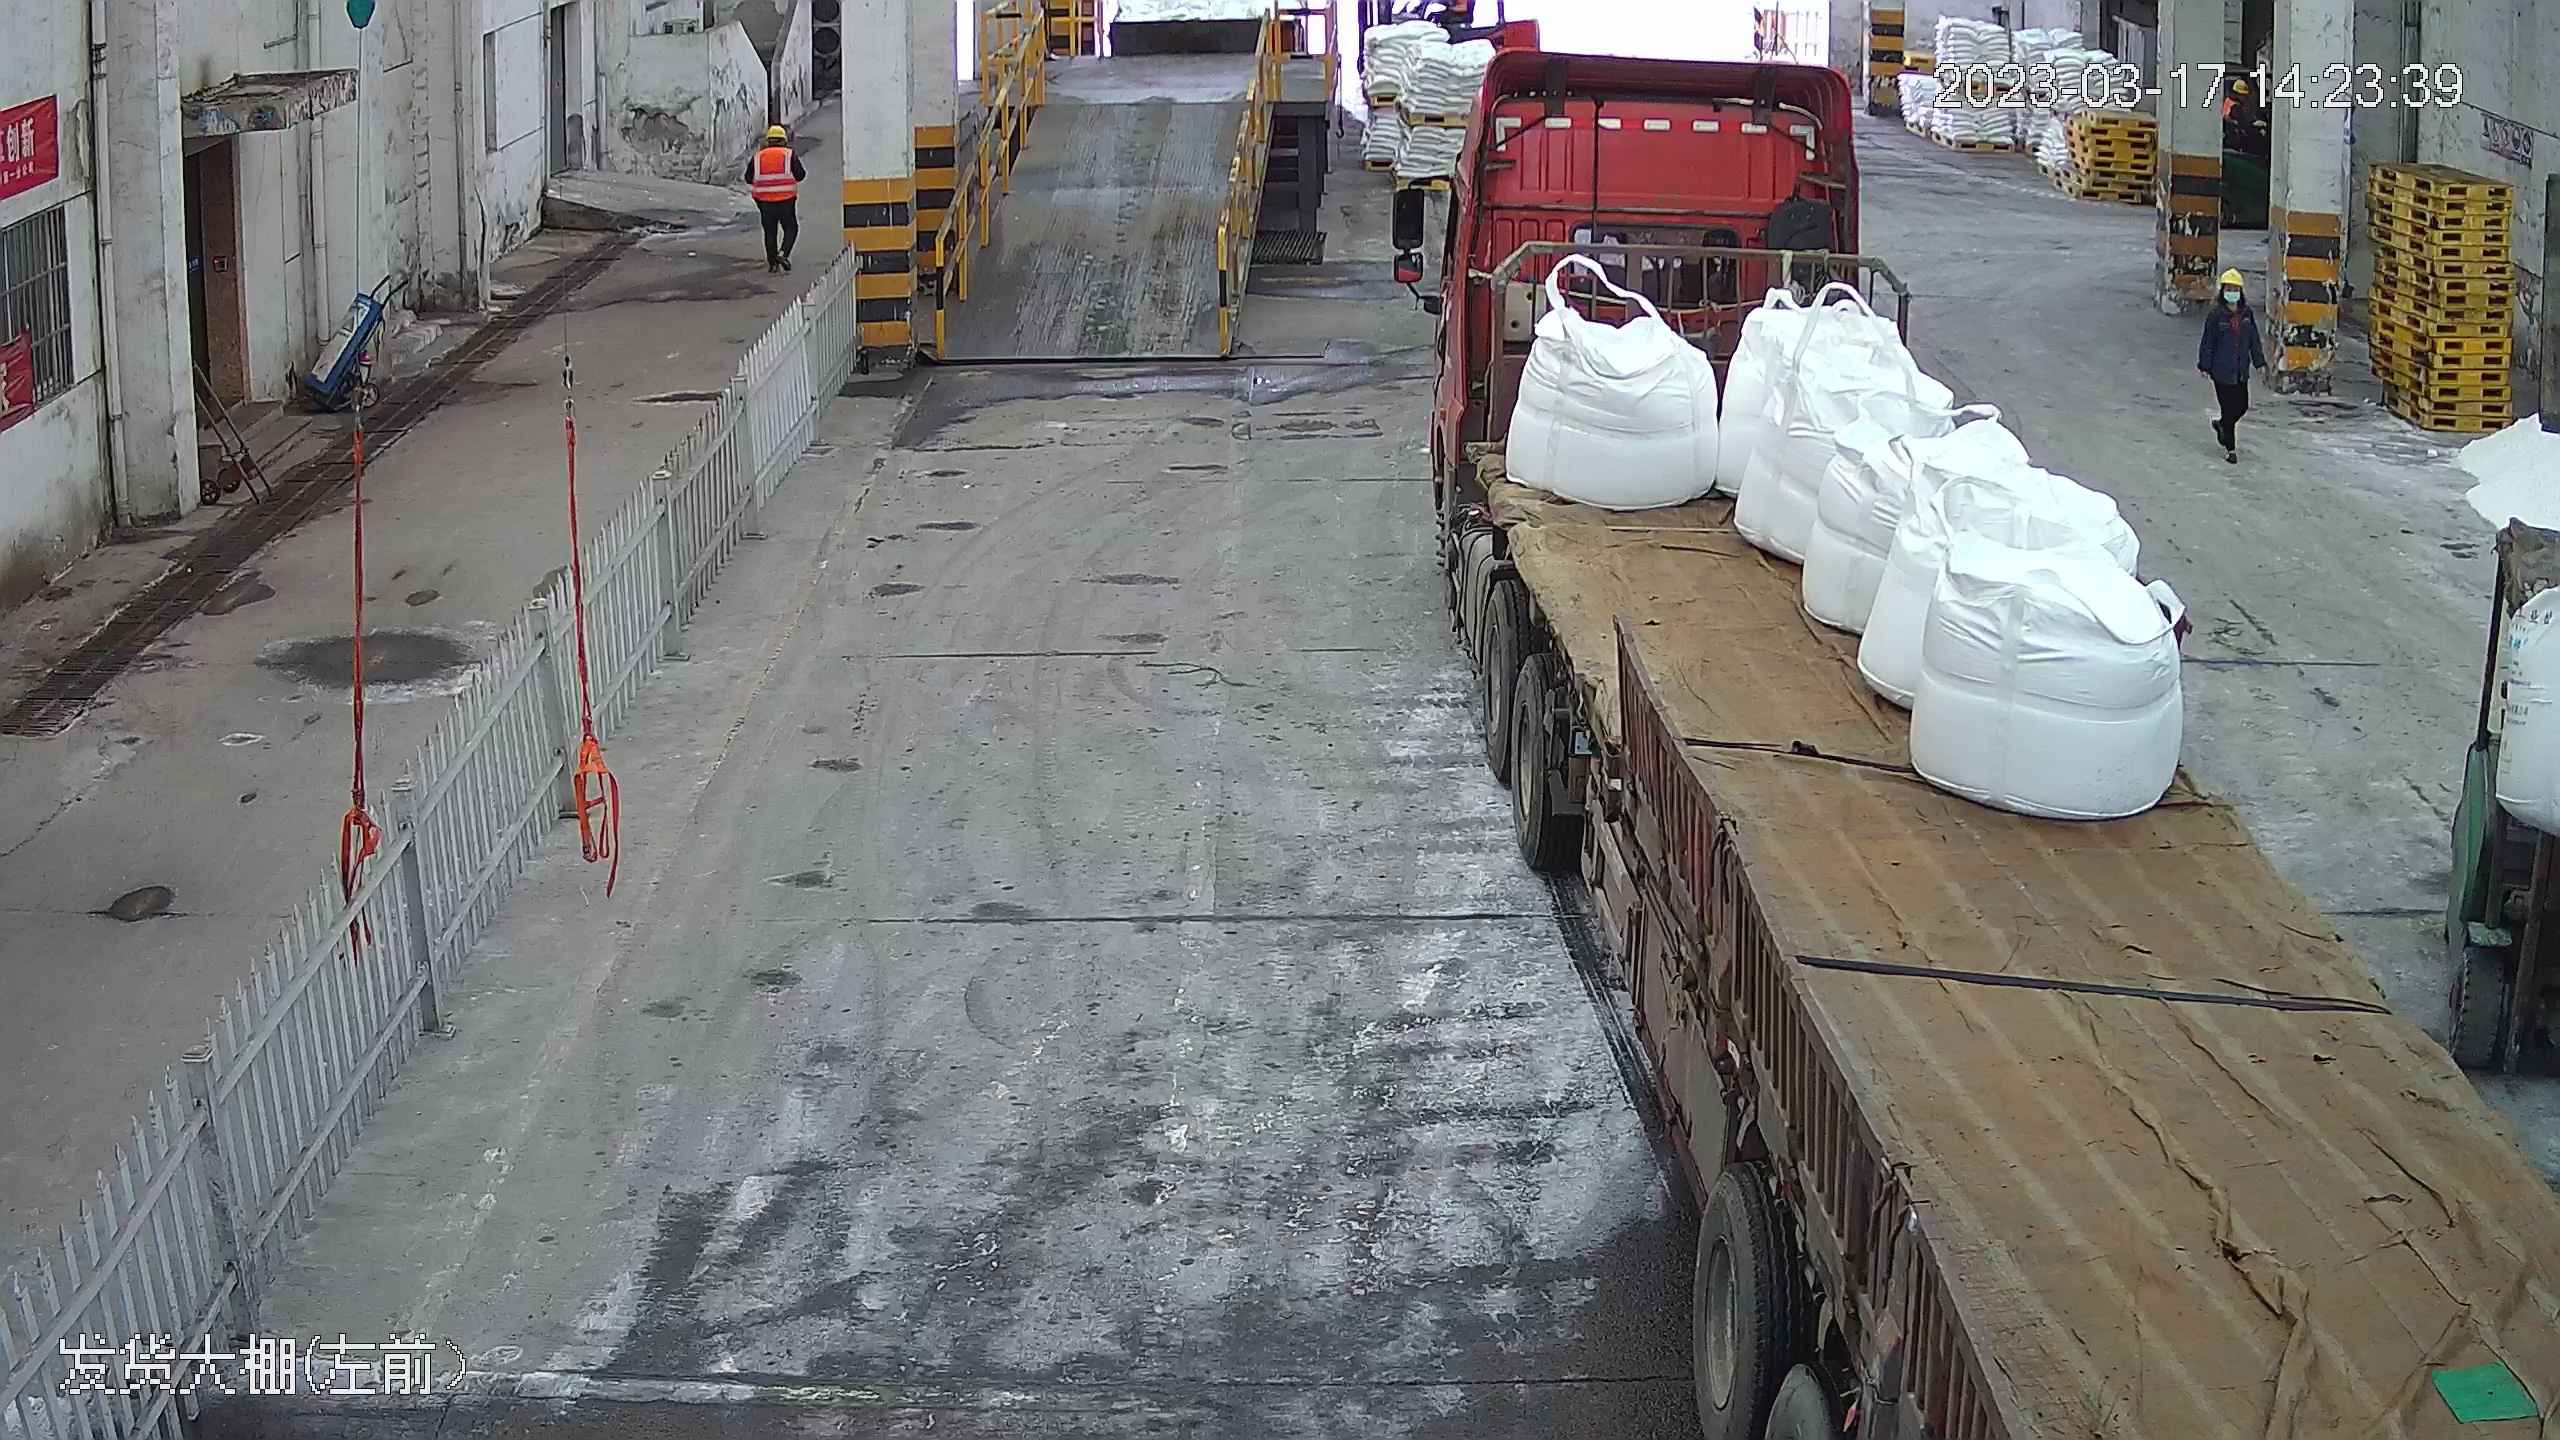head: (2205, 266, 2256, 325), (751, 119, 798, 172)
helmet: (758, 120, 790, 147), (2217, 266, 2249, 290)
people: (2195, 263, 2264, 464), (741, 113, 805, 277)
truck: (1413, 39, 2557, 1440)
